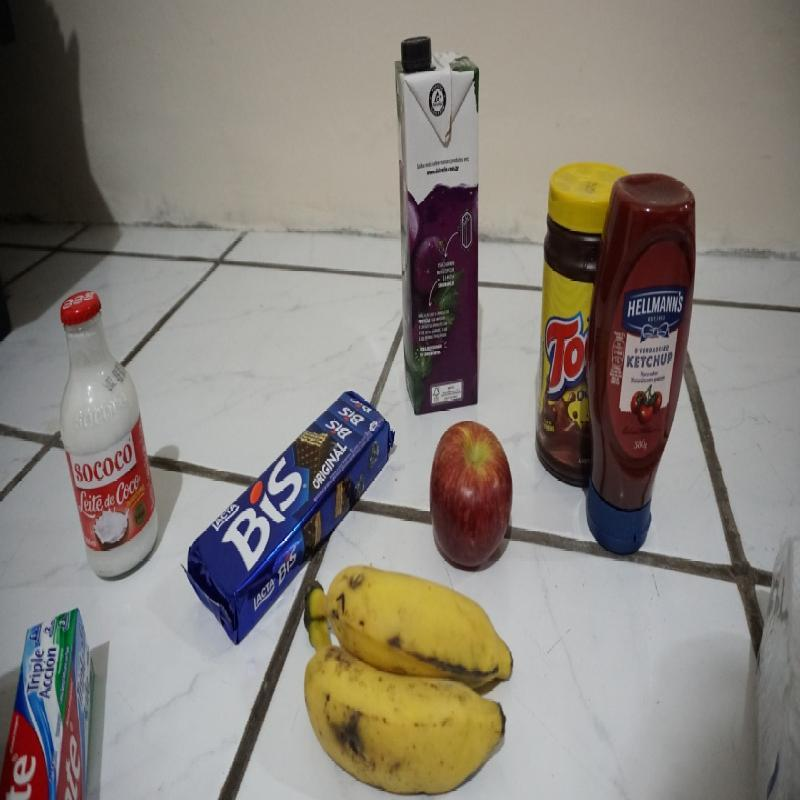Apple: (427, 419, 512, 569)
Banana: (304, 564, 516, 798)
Chocolate Powder: (534, 159, 602, 488)
Coconut Milk: (58, 292, 160, 584)
Ketchup: (585, 170, 698, 559)
Toothpaste: (0, 608, 98, 800)
